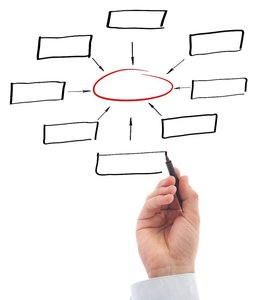circle: (90, 67, 174, 102)
line: (164, 57, 184, 76), (125, 116, 138, 142), (95, 105, 113, 121), (147, 100, 162, 115), (173, 81, 190, 94), (66, 88, 92, 94), (96, 61, 106, 74), (131, 41, 135, 65)
square: (96, 151, 167, 175), (159, 112, 218, 139), (37, 34, 93, 59), (190, 77, 249, 99), (8, 80, 64, 103), (108, 9, 166, 30), (188, 31, 243, 53), (42, 121, 97, 143)
